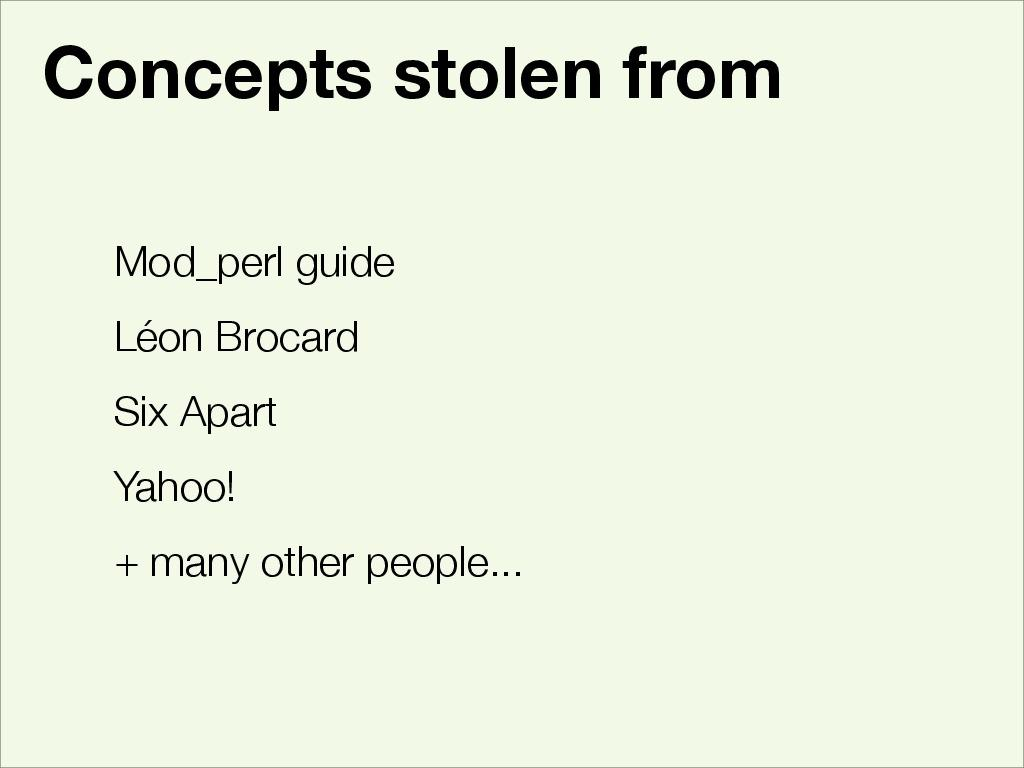paragraph: (88, 221, 550, 614)
title: (41, 25, 783, 120)
